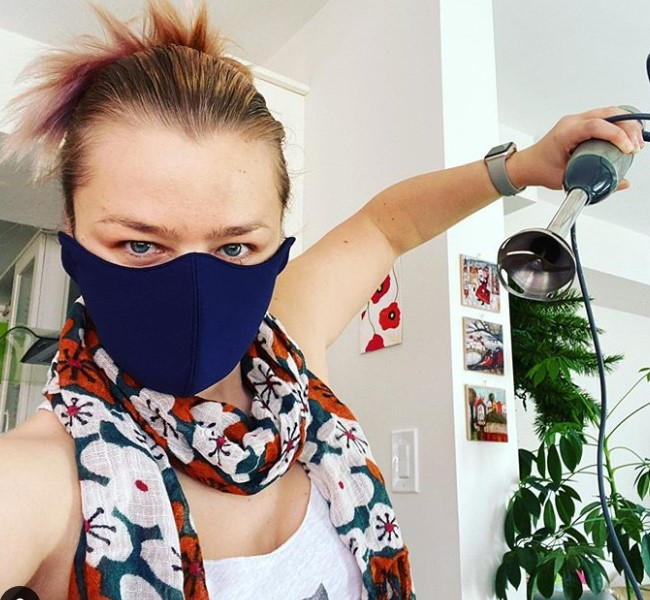face_with_mask: (54, 87, 297, 397)
